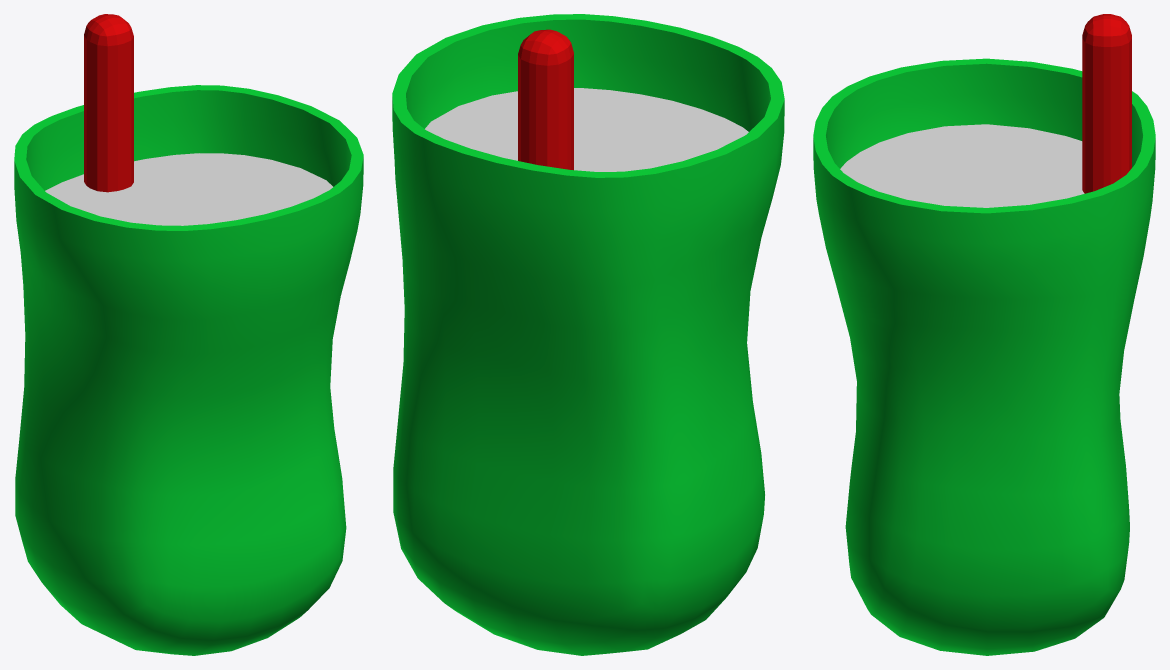
Rendered from TeaGlass.fbx.
3 views of the same model, side by side, from view 1: azimuth 30°, elevation 25°; view 2: azimuth 150°, elevation 25°; view 3: azimuth 270°, elevation 25° (orthographic). The views are drawn at different scales.
Visible parts, largest first — view 1: Cube, Cube.001; view 2: Cube, Cube.001; view 3: Cube, Cube.001.
Part boxes in pixels (x1,y1,x2,y2): Cube: (14,14,363,655); Cube.001: (45,153,332,225); Cube: (392,14,784,655); Cube.001: (425,88,748,171); Cube: (813,14,1155,655); Cube.001: (840,124,1084,207).
Size of the model in its own units: 1.16 by 2.12 by 1.09.
